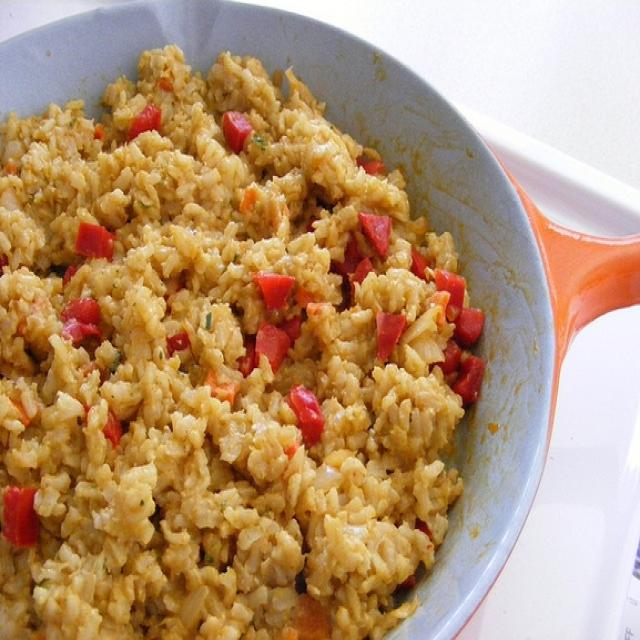米饭主食: (8, 40, 479, 615)
